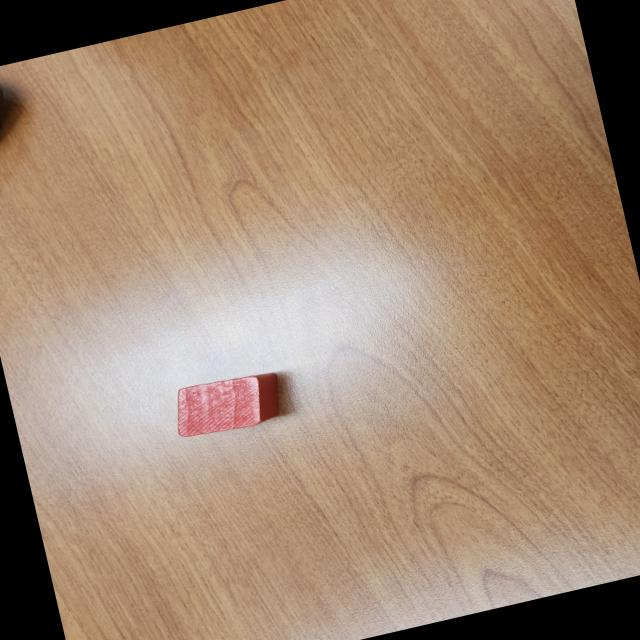red: (166, 366, 286, 443)
